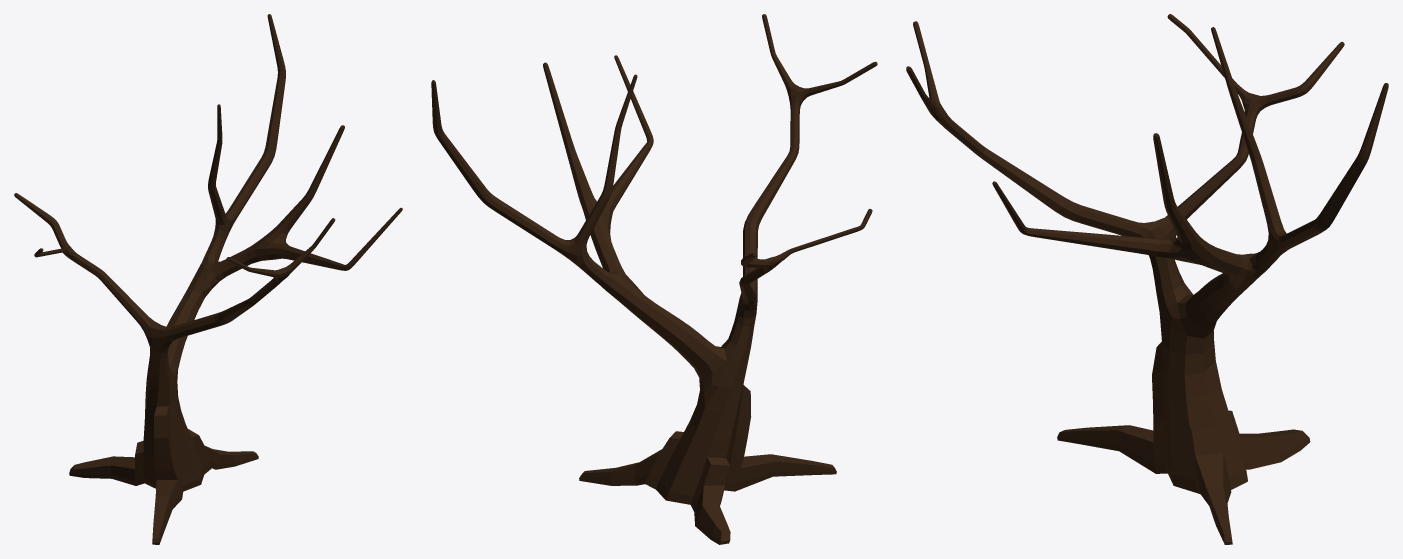
Rendered from dead_tree.fbx.
3 views of the same model, side by side, from view 1: azimuth 30°, elevation 25°; view 2: azimuth 150°, elevation 25°; view 3: azimuth 270°, elevation 25° (orthographic). The views are drawn at different scales.
Visible parts, largest first — view 1: Cube; view 2: Cube; view 3: Cube.
Boxes of the visible parts, bbox=[...] form: Cube: bbox=[14, 14, 402, 544]; Cube: bbox=[431, 14, 877, 544]; Cube: bbox=[906, 14, 1388, 544].
Size of the model in its own units: 294 by 338 by 291.
